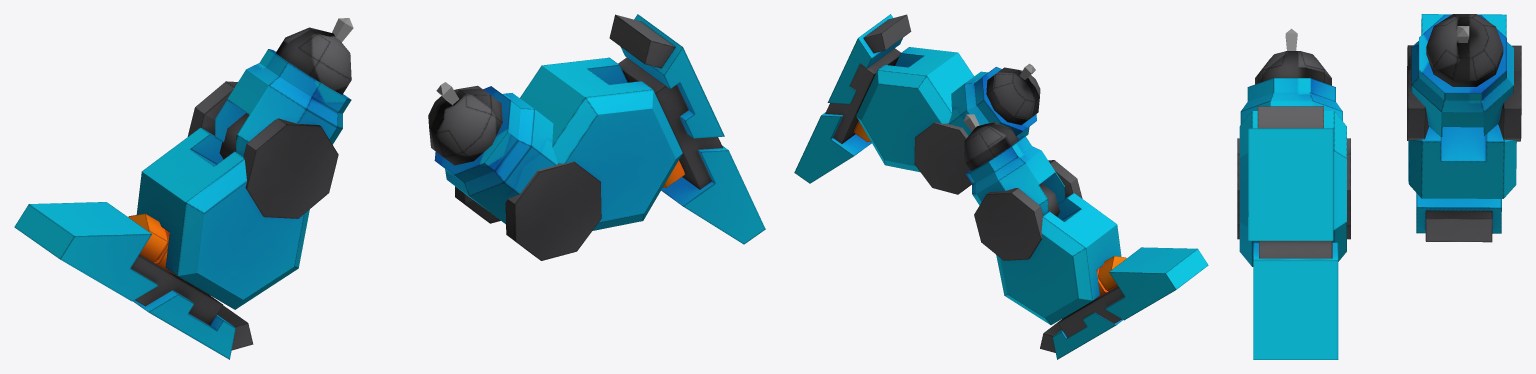
The model's file is Bottom_Running38.obj.
3 views of the same model, side by side, from view 1: azimuth 30°, elevation 25°; view 2: azimuth 150°, elevation 25°; view 3: azimuth 270°, elevation 25° (orthographic). The views are drawn at different scales.
Parts seen in each view (by area): view 1: Object010, Object013, Object011, Object014, Object012, Object009; view 2: Object010, Object013, Object011, Object014, Object009, Object012; view 3: Object014, Object009, Object010, Object013, Object012, Object011, Bone023.
Boxes of the visible parts, x1,y1,x2,y2 form: Object010: (136, 81, 338, 309); Object013: (455, 57, 682, 260); Object011: (14, 202, 253, 359); Object014: (609, 14, 765, 244); Object012: (428, 85, 557, 224); Object009: (215, 27, 351, 156); Object010: (974, 160, 1121, 324); Object013: (856, 47, 974, 194); Object011: (1040, 247, 1208, 359); Object014: (794, 14, 911, 183); Object009: (964, 122, 1065, 214); Object012: (948, 67, 1040, 138); Object014: (1248, 106, 1338, 359); Object009: (1411, 14, 1513, 136); Object010: (1407, 45, 1521, 198); Object013: (1237, 111, 1350, 266); Object012: (1240, 51, 1342, 124); Object011: (1416, 14, 1506, 242); Bone023: (1285, 28, 1297, 50).
Bounding box in the file's own units: 222 × 103 × 94.45.
